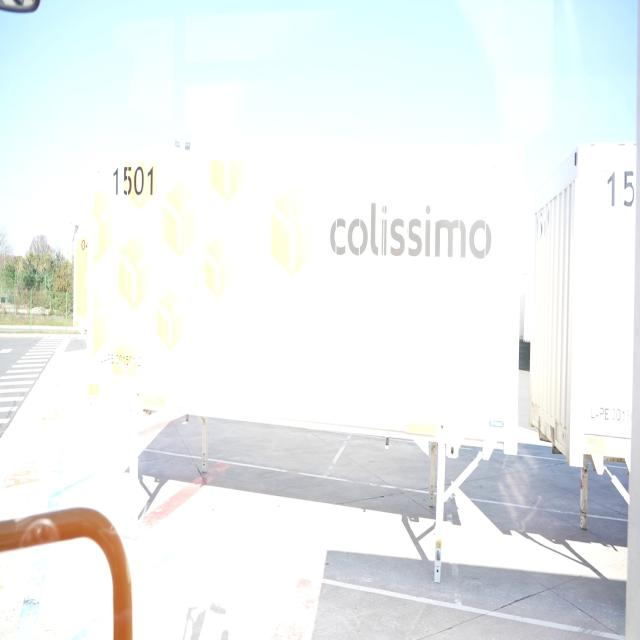Code: (108, 152, 166, 210)
